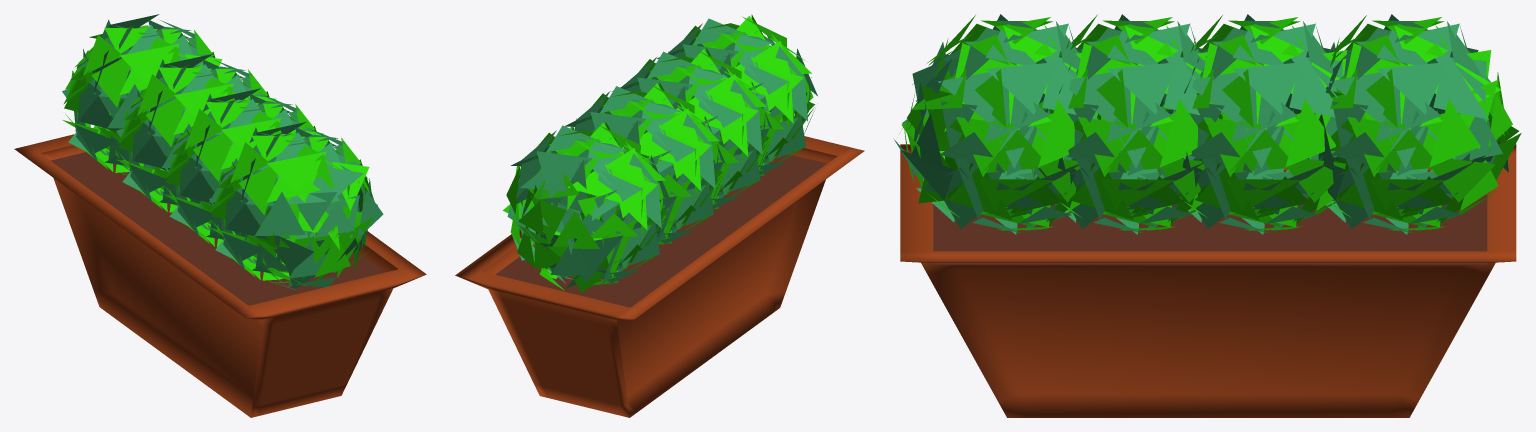
The model's file is BushPlanter.fbx.
The picture shows the model from 3 angles, left to right: view 1: azimuth 30°, elevation 25°; view 2: azimuth 150°, elevation 25°; view 3: azimuth 270°, elevation 25°; orthographic projection. The views are drawn at different scales.
Visible parts, largest first — view 1: Planter, BushPart3, BushPart1, Dirt, BushPart1.003, BushPart1.002, BushPart1.001, BushPart3.003, BushPart3.002, BushPart3.001; view 2: Planter, BushPart1.003, BushPart3.003, Dirt, BushPart3.002, BushPart3, BushPart3.001, BushPart1.002, BushPart1, BushPart1.001; view 3: Planter, Dirt, BushPart3, BushPart3.003, BushPart1.003, BushPart1, BushPart3.002, BushPart1.002, BushPart3.001, BushPart1.001.
Boxes of the visible parts, x1,y1,x2,y2 form: Planter: [14, 134, 426, 417]; BushPart3: [209, 122, 383, 289]; BushPart1: [209, 133, 377, 288]; Dirt: [51, 152, 384, 305]; BushPart1.003: [62, 25, 222, 174]; BushPart1.002: [116, 65, 276, 212]; BushPart1.001: [163, 99, 323, 247]; BushPart3.003: [62, 14, 215, 175]; BushPart3.002: [116, 53, 266, 208]; BushPart3.001: [165, 88, 314, 241]; Planter: [455, 136, 864, 417]; BushPart1.003: [503, 121, 668, 292]; BushPart3.003: [507, 125, 671, 288]; Dirt: [495, 154, 826, 307]; BushPart3.002: [565, 86, 725, 243]; BushPart3: [657, 18, 817, 174]; BushPart3.001: [612, 51, 772, 208]; BushPart1.002: [570, 82, 722, 244]; BushPart1: [677, 14, 815, 175]; BushPart1.001: [632, 48, 769, 209]; Planter: [900, 144, 1516, 417]; Dirt: [933, 170, 1487, 264]; BushPart3: [893, 14, 1097, 234]; BushPart3.003: [1307, 14, 1508, 234]; BushPart1.003: [1328, 15, 1521, 230]; BushPart1: [899, 15, 1120, 230]; BushPart3.002: [1158, 14, 1342, 234]; BushPart1.002: [1157, 15, 1365, 230]; BushPart3.001: [1033, 14, 1218, 234]; BushPart1.001: [1031, 14, 1231, 230].
Bounding box in the file's own units: 271 × 387 × 614.
